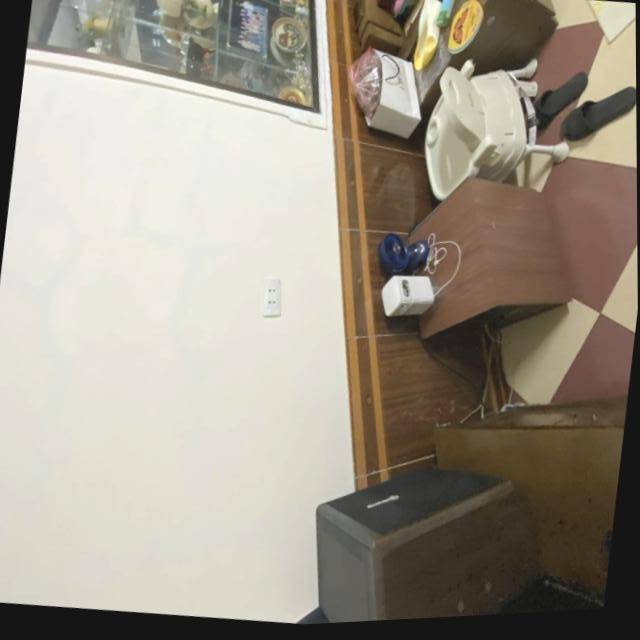outlet: (259, 277, 284, 320)
